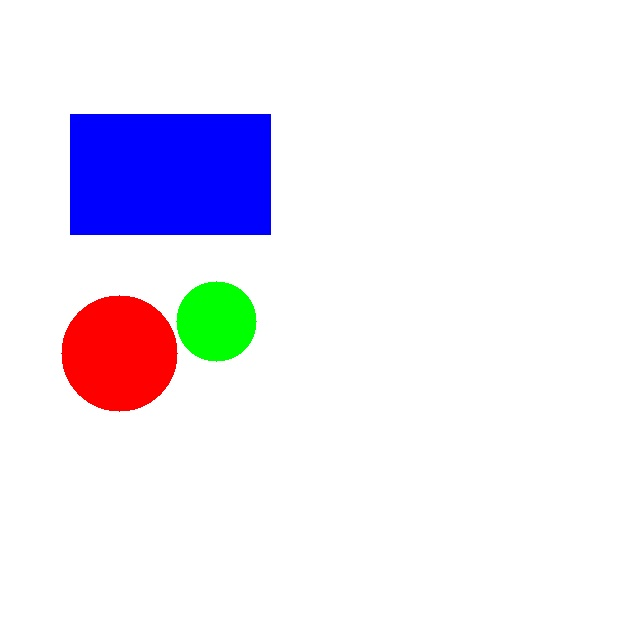cartao: (70, 114, 270, 234)
rosca_externa: (176, 281, 256, 361)
rosca_interna: (61, 295, 177, 411)
